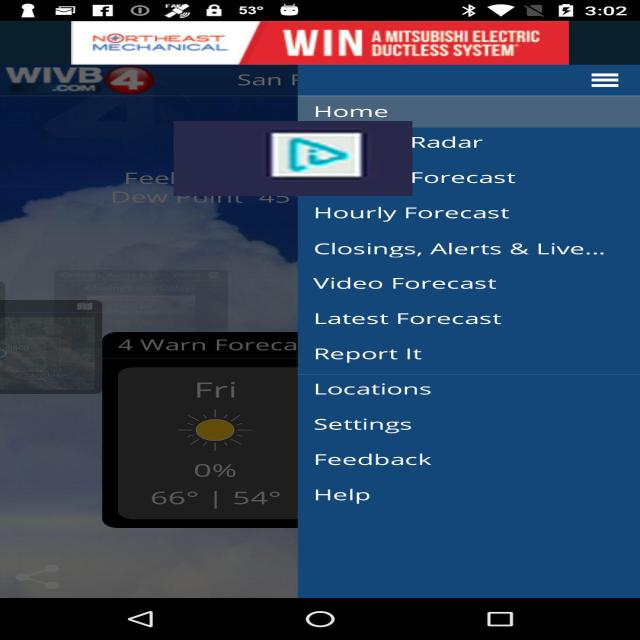sneaking: (174, 121, 412, 196)
